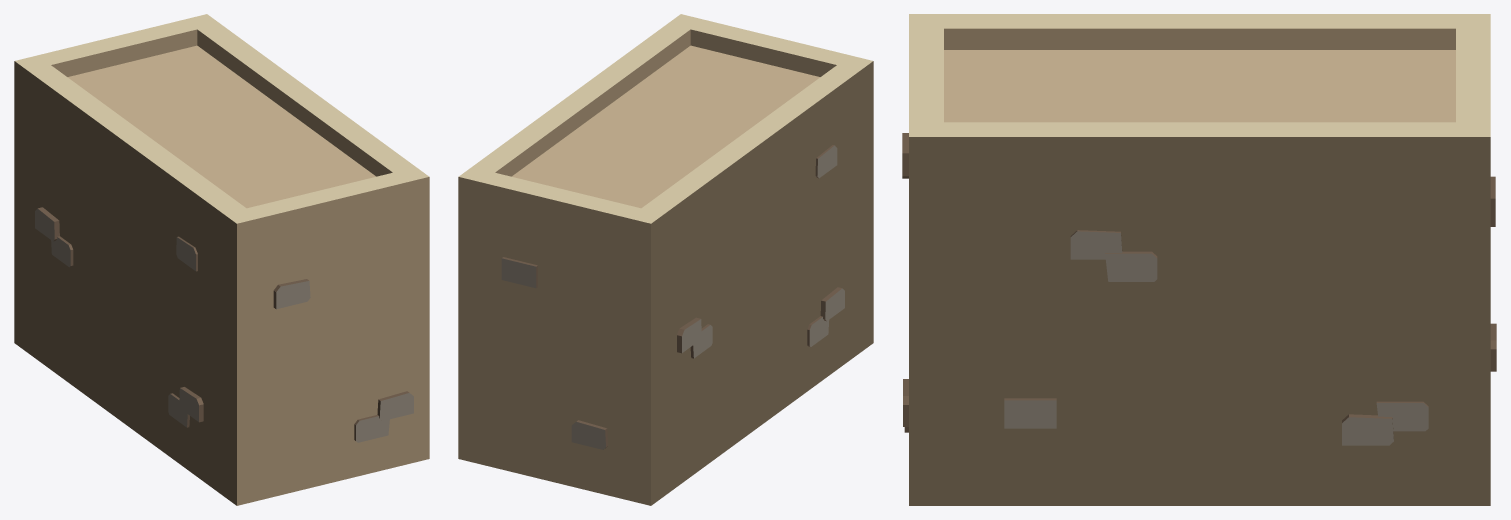
File: TB_D_Bd_Body_Med.FBX
3 renders of one model, left to right at view 1: azimuth 30°, elevation 25°; view 2: azimuth 150°, elevation 25°; view 3: azimuth 270°, elevation 25°, orthographic. The views are drawn at different scales.
Parts seen in each view (by area): view 1: TB_D_Bd_Body_Med; view 2: TB_D_Bd_Body_Med; view 3: TB_D_Bd_Body_Med.
Boxes of the visible parts, x1,y1,x2,y2 form: TB_D_Bd_Body_Med: [14, 14, 429, 505]; TB_D_Bd_Body_Med: [458, 14, 873, 505]; TB_D_Bd_Body_Med: [902, 14, 1496, 505].
Size of the model in its own units: 2.63 by 3.5 by 5.11.
